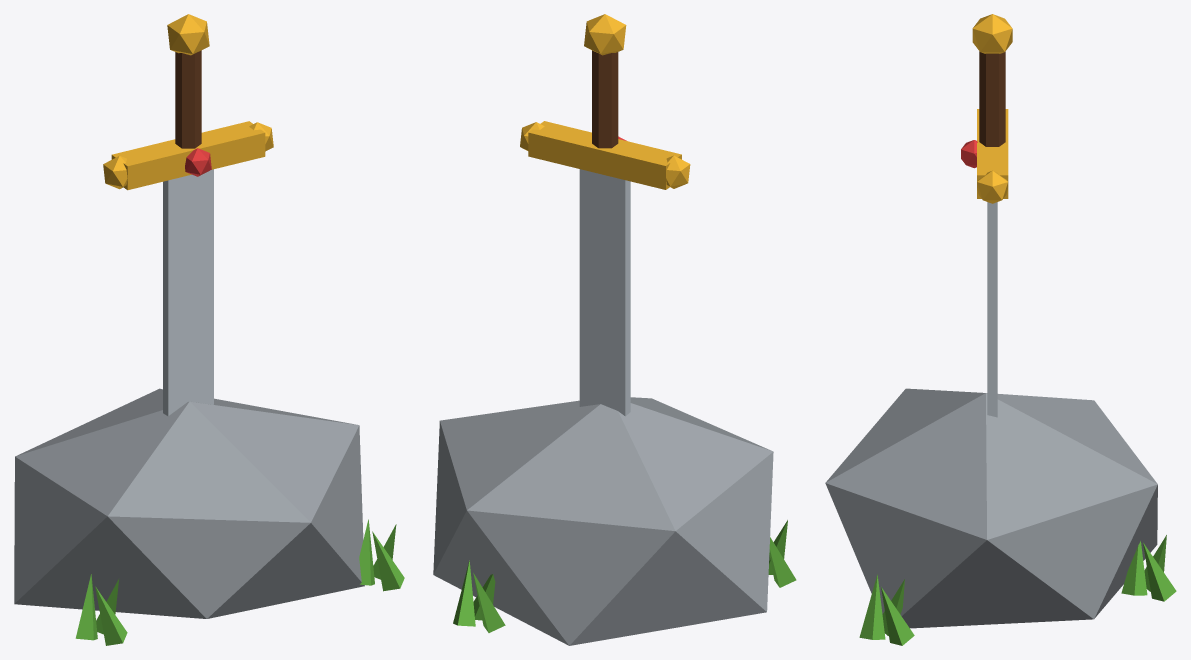
File: SwordInStone.fbx
The picture shows the model from 3 angles, left to right: view 1: azimuth 30°, elevation 25°; view 2: azimuth 150°, elevation 25°; view 3: azimuth 270°, elevation 25°; orthographic projection.
Visible parts, largest first — view 1: Sword In Stone; view 2: Sword In Stone; view 3: Sword In Stone.
Boxes of the visible parts, x1=… form: Sword In Stone: x1=14, y1=14, x2=404, y2=645; Sword In Stone: x1=433, y1=14, x2=796, y2=645; Sword In Stone: x1=825, y1=14, x2=1176, y2=645.
Size of the model in its own units: 4.4 by 7.46 by 4.03.
Materials: 1 (1 with a texture image).
